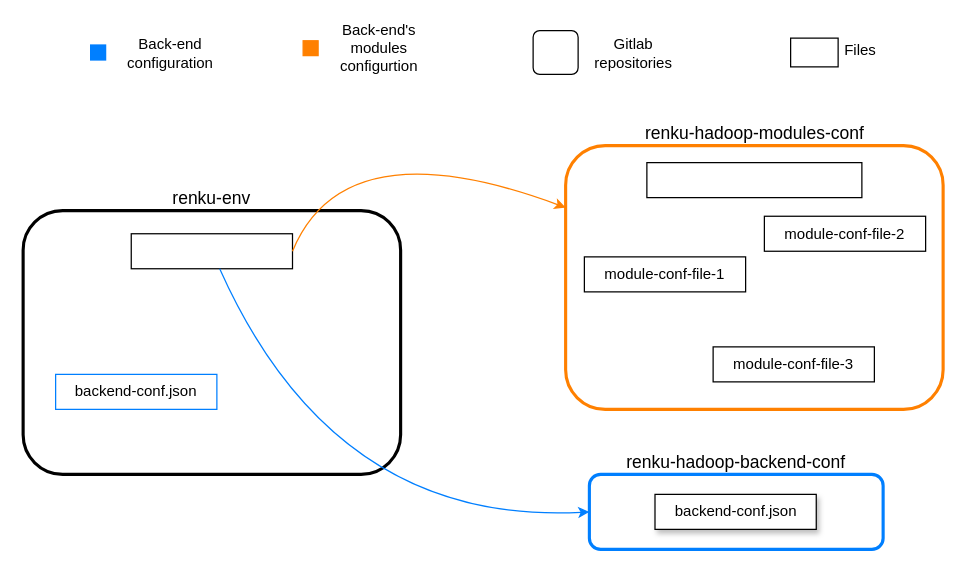
Some shapes in this 966 by 573 pixel diagram are drawn without their labels. The shapes that lost their labels are listed below. From the top down, each one's centre as x and y in pixels, then its label:
At [754,179]: "backend-modules-conf.json".
At [211,250]: "hadoop-conf.json".
